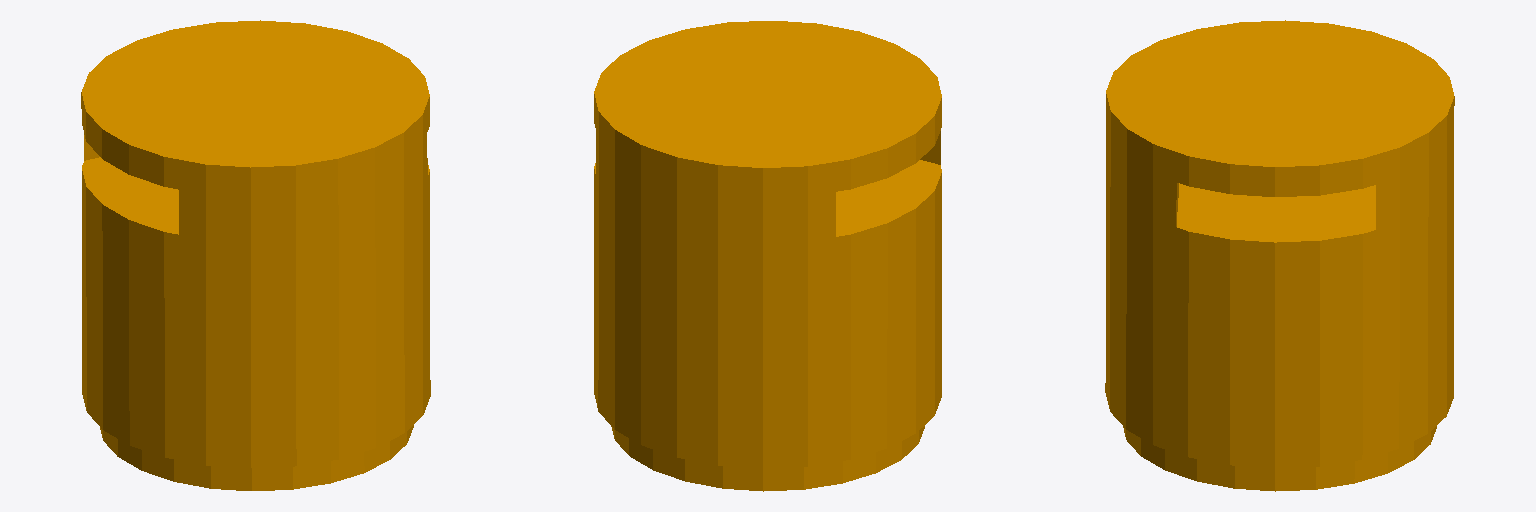
The robot description file, URDF, robot "round_table_01":
<?xml version="1.0" ?>
<robot name="round_table_01">
  <link name="baseLink">
    <contact>
      <lateral_friction value="1.0"/>
      <inertia_scaling value="3.0"/>
    </contact>
    <inertial>
      <origin rpy="0 0 0" xyz="-0.000 0.000 -0.400"/>
       <mass value=".1"/>
       <inertia ixx="1" ixy="0.0" ixz="0.0" iyy="1" iyz="0.0" izz="1"/>
    </inertial>
    <visual>
      <origin rpy="0 0 0" xyz="0 0 0"/>
      <geometry>
        <mesh filename="visual.obj" scale="1.000 1.000 1.000"/>
      </geometry>
      <material name="texture_material">
            <texture filename="texture.png"/>
      </material>
    </visual>
    <collision>
      <origin rpy="0 0 0" xyz="0 0 0"/>
      <geometry>
        <mesh filename="visual.obj" scale="1.000 1.000 1.000"/>
      </geometry>
    </collision>
  </link>
</robot>
        

--- What the picture shows (computed from the rendered views, not written in the file) ---
The picture shows the robot from 3 angles, left to right: view 1: azimuth 30°, elevation 25°; view 2: azimuth 150°, elevation 25°; view 3: azimuth 270°, elevation 25°; orthographic projection.
Robot: round_table_01 — 1 links, 0 joints (none); root link baseLink; default pose: every joint at zero.
Visible links, largest first — view 1: baseLink; view 2: baseLink; view 3: baseLink.
Boxes of the visible links, x1,y1,x2,y2 form: baseLink: (81, 20, 430, 490); baseLink: (594, 21, 941, 491); baseLink: (1105, 20, 1454, 491).
Size in the robot's own frame: 0.7629 by 0.763 by 0.8 metres.
1 mesh visuals loaded from 1 distinct referenced files (1 OBJ).
